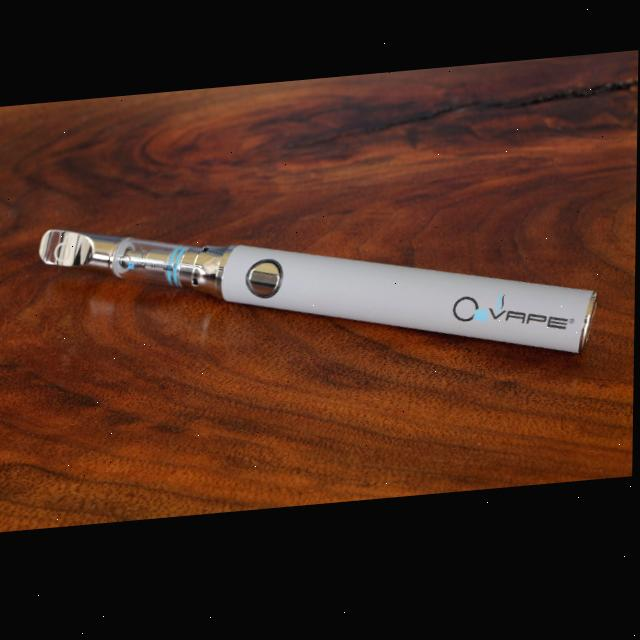vape: (38, 192, 601, 403)
